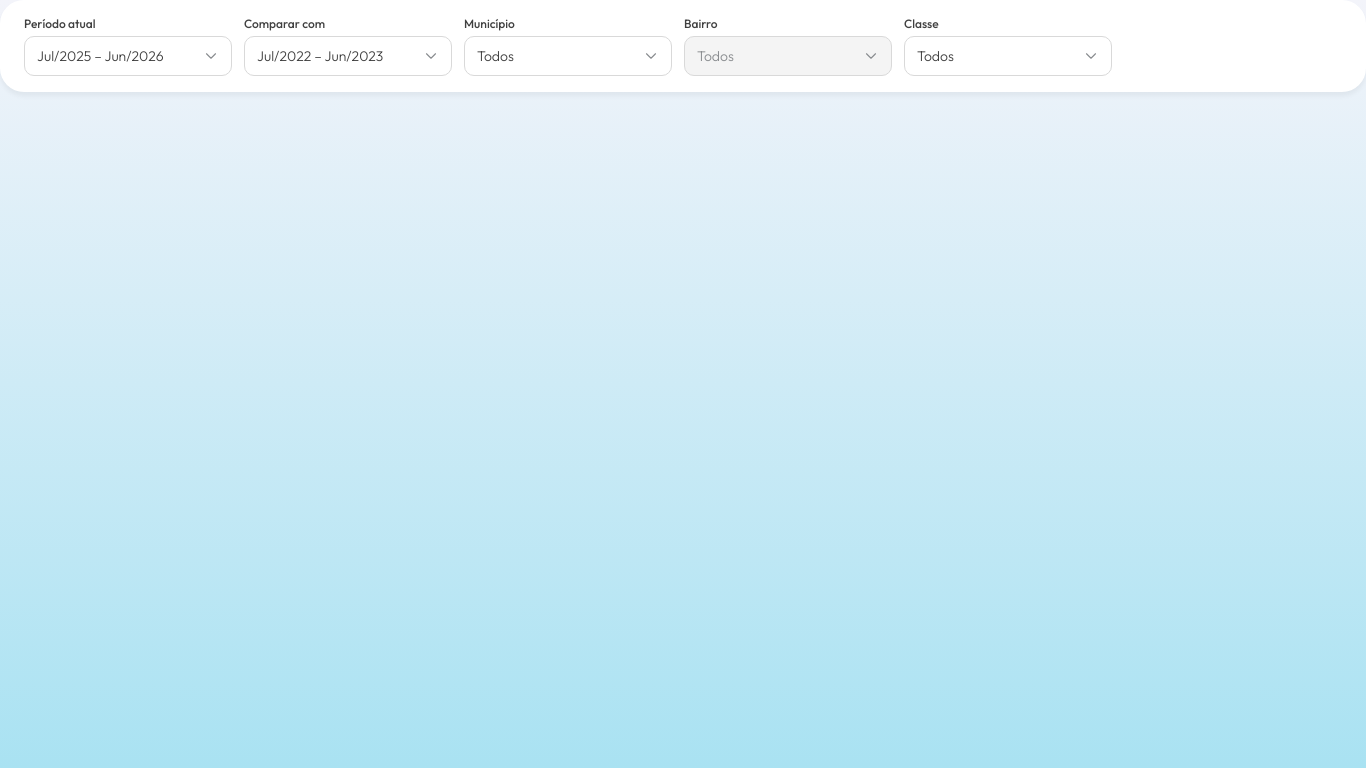
BarraDeFiltros › "Limpar filtros" só aparece com filtro ativo e restaura os padrões
Expected: the button "Limpar filtros" is not shown
Select "Industrial" in the dropdown labelled "Classe" at point(1008, 56), box left=904, top=36, right=1112, bottom=76
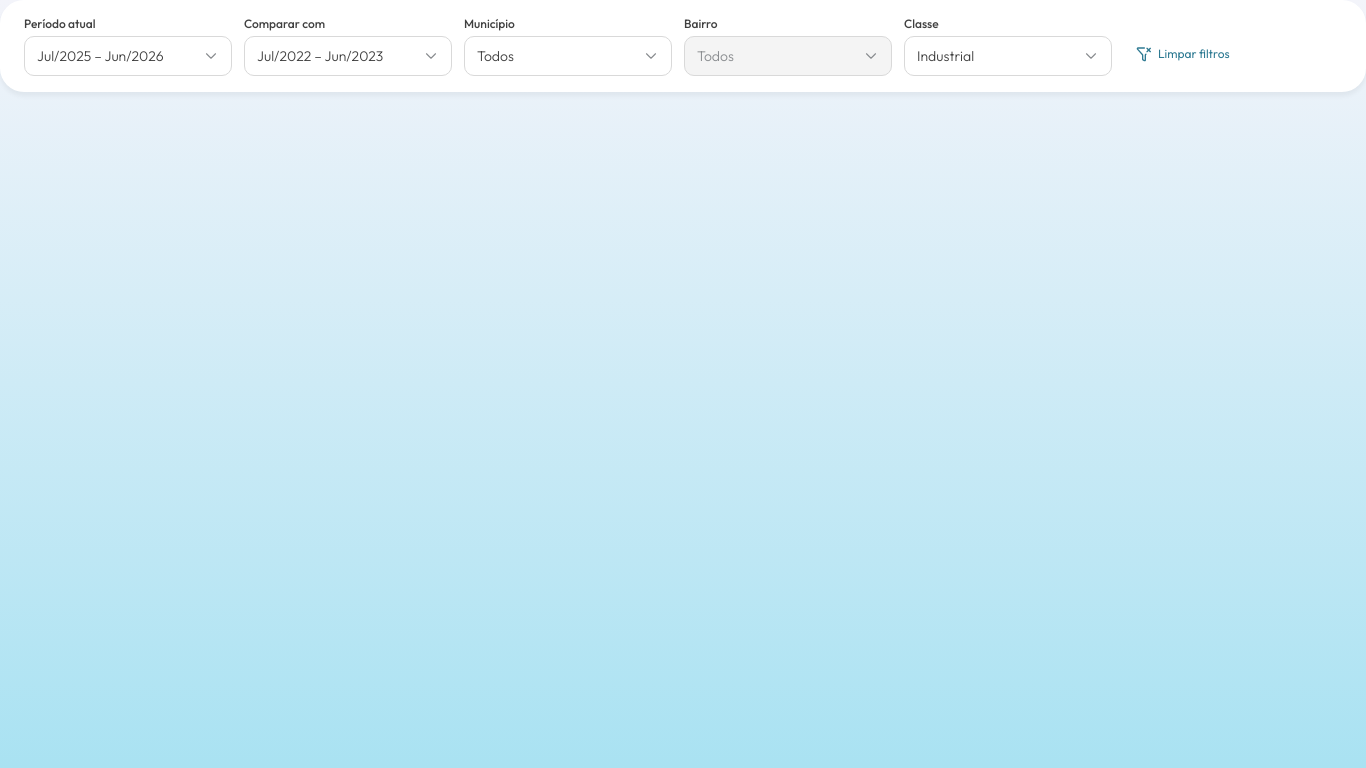
Click the button "Limpar filtros" at point(1183, 54), box left=1124, top=38, right=1242, bottom=70
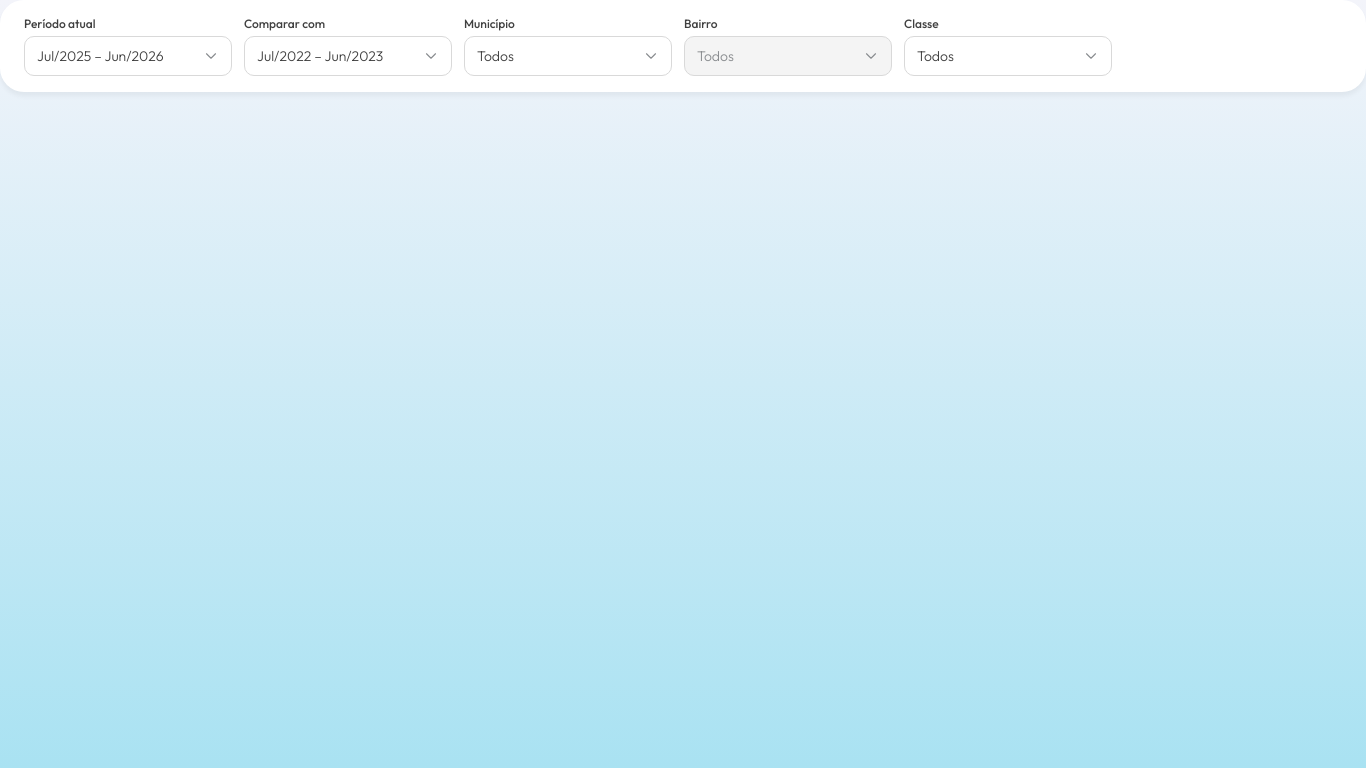
Result: the button "Limpar filtros" is gone
